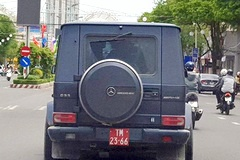plate: (108, 127, 132, 149)
